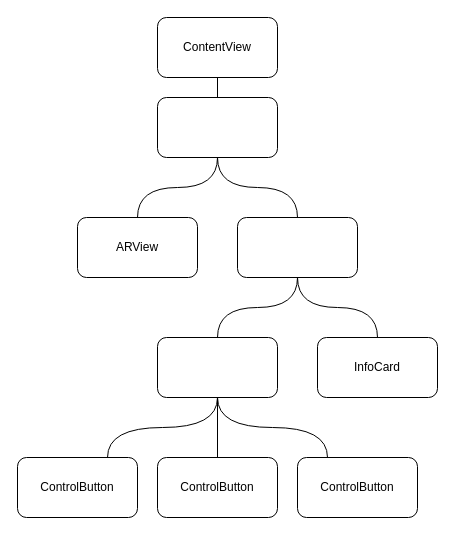
Image size: 455x535. Some labels were removed from this diagram. Each missing label, with the centre of its shape:
HStack: point (217, 367)
VStack: point (297, 247)
ZStack: point (217, 127)
